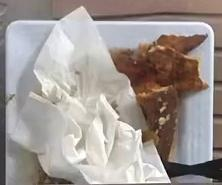pizza_crust: (131, 35, 208, 161)
